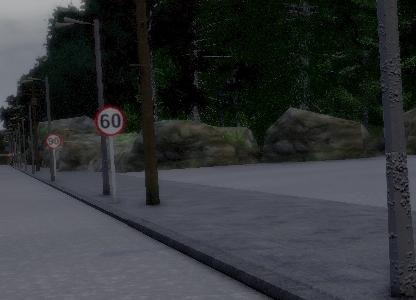Speed_60: (92, 104, 127, 136)
